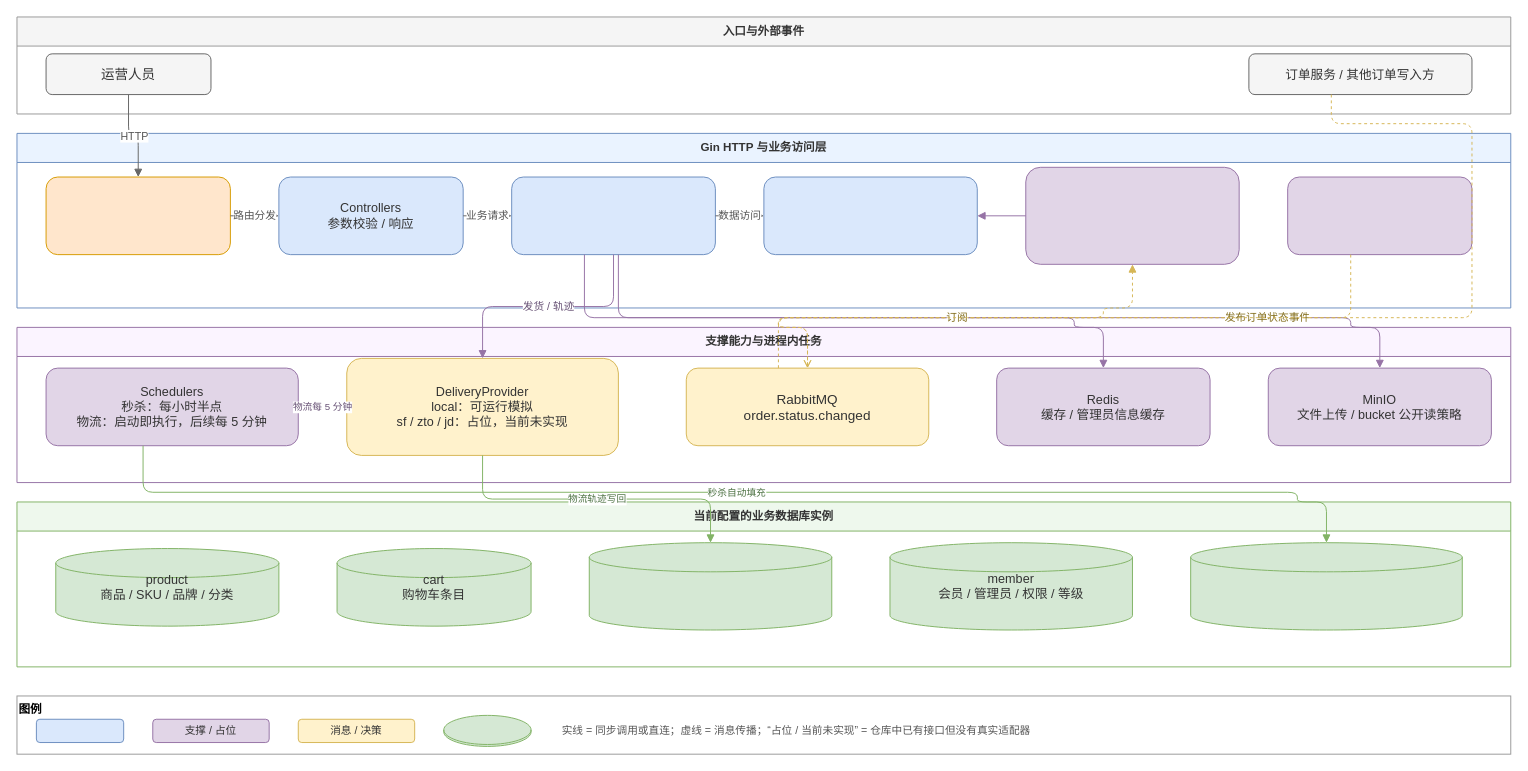
This 1528x771 diagram has some shape labels left out. The shapes that lost their labels are listed below. From the top down, each one's centre as x and y in pixels, then its label:
the point at 137,215: Router /admin 管理面 /api 用户侧路由
the point at 613,215: Services 业务编排 / 事务
the point at 870,215: Repository / DAO 通用 CRUD + 专用逻辑 直连五个业务库
the point at 1132,215: 订单状态消费者 admin-order-status 版本单调更新
the point at 1379,215: 状态事件发布 发货 / 关闭提交后
the point at 710,586: order 订单 / 支付 / 售后 / 物流轨迹
the point at 1326,586: promotion 优惠券 / 秒杀 / 首页运营位
the point at 79,730: 业务层
the point at 487,730: 数据库
